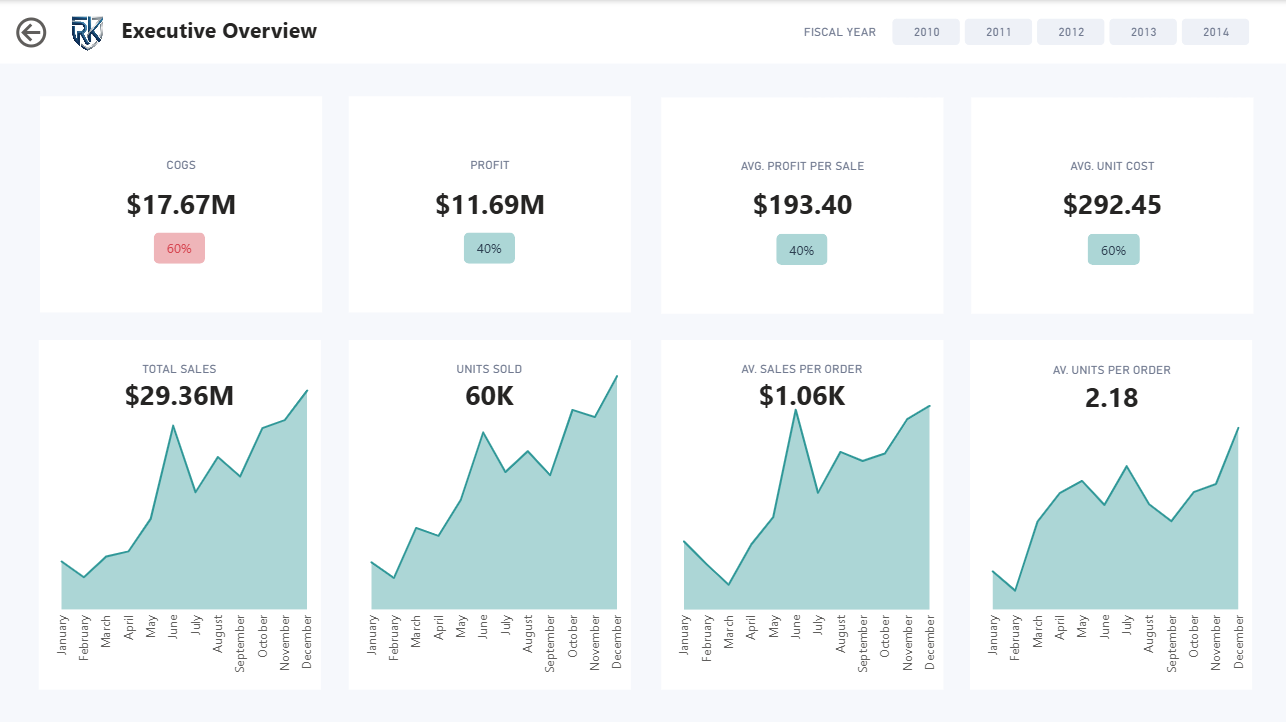

The dashboard page shown, as its layout file describes it:
{"tool":"powerbi","page":{"name":"Executive Overview","canvas":[1280,720],"ordinal":1},"visuals":[{"type":"shape","box":[0,0,1280,63.4],"z":0},{"type":"actionButton","box":[11.2,12.4,41.1,39.8],"z":1000},{"type":"textbox","box":[115.7,10,266.2,42.3],"z":2000},{"type":"areaChart","fields":{"Category":["dim_date.Month Name"],"Y":["_measure.Avg Units Per Order"]},"box":[965.3,338.4,281.1,348.3],"z":3000},{"type":"card","title":"AV. UNITS PER ORDER","fields":{"Values":["_measure.Avg Units Per Order"]},"box":[1027.5,360.7,158,56],"z":4000},{"type":"areaChart","fields":{"Category":["dim_date.Month Name"],"Y":["_measure.Total Sales"]},"box":[38.6,338.4,281.1,348.3],"z":5000},{"type":"areaChart","fields":{"Category":["dim_date.Month Name"],"Y":["_measure.Total Quantity Sold"]},"box":[347.1,338.4,281.1,348.3],"z":6000},{"type":"card","title":"UNITS SOLD","fields":{"Values":["_measure.Total Quantity Sold"]},"box":[408,359.5,158,56],"z":7000},{"type":"card","title":"TOTAL SALES","fields":{"Values":["_measure.Total Sales"]},"box":[99.5,359.5,158,56],"z":8000},{"type":"areaChart","fields":{"Category":["dim_date.Month Name"],"Y":["_measure.Avg. Sales per Order"]},"box":[658.1,338.4,281.1,348.3],"z":9000},{"type":"card","title":"AV. SALES PER ORDER","fields":{"Values":["_measure.Avg. Sales per Order"]},"box":[712.8,359.5,170.4,56],"z":10000},{"type":"textbox","box":[39.8,95.8,281.1,215.2],"z":11000},{"type":"card","fields":{"Values":["_measure.Total COGS"]},"box":[87.1,165.4,186.6,75.9],"z":12000},{"type":"actionButton","box":[153,231.4,51,31.1],"z":13000},{"type":"textbox","box":[347.1,95.8,281.1,215.2],"z":14000},{"type":"card","fields":{"Values":["_measure.Total Profit"]},"box":[394.3,165.4,186.6,75.9],"z":15000},{"type":"actionButton","box":[461.5,231.4,51,31.1],"z":16000},{"type":"textbox","box":[658.1,97,281.1,215.2],"z":17000},{"type":"card","fields":{"Values":["_measure.Avg Profit per Sale"]},"box":[705.3,165.4,186.6,75.9],"z":18000},{"type":"textbox","box":[966.6,97,281.1,215.2],"z":19000},{"type":"card","fields":{"Values":["_measure.Avg Unit Cost"]},"box":[1013.8,165.4,186.6,75.9],"z":20000},{"type":"actionButton","box":[1082.2,232.6,52.2,31.1],"z":21000},{"type":"actionButton","box":[772.5,232.6,51,31.1],"z":22000},{"type":"advancedSlicerVisual","fields":{"Values":["dim_date.Year"]},"box":[883.2,13.7,369.5,36.1],"z":23000,"group":"g1"},{"type":"group","id":"g1","title":"Group 1","box":[794.9,13.7,457.8,36.1],"z":23000},{"type":"textbox","box":[794.9,16.2,88.3,33.6],"z":24000,"group":"g1"},{"type":"image","box":[69.7,12.4,34.8,41.1],"z":24000}]}

Visuals, with their boxes in screenshot pixels (x1, y1, x2, y2), scaled from the page's 1280x720 canvas onto the 1286x722 screenshot:
shape: <bbox>0, 0, 1285, 64</bbox>
actionButton: <bbox>11, 12, 53, 52</bbox>
textbox: <bbox>116, 10, 384, 52</bbox>
areaChart - dim_date.Month Name x _measure.Avg Units Per Order: <bbox>970, 339, 1252, 689</bbox>
"AV. UNITS PER ORDER" card: <bbox>1032, 362, 1191, 418</bbox>
areaChart - dim_date.Month Name x _measure.Total Sales: <bbox>39, 339, 321, 689</bbox>
areaChart - dim_date.Month Name x _measure.Total Quantity Sold: <bbox>349, 339, 631, 689</bbox>
"UNITS SOLD" card: <bbox>410, 360, 569, 417</bbox>
"TOTAL SALES" card: <bbox>100, 360, 259, 417</bbox>
areaChart - dim_date.Month Name x _measure.Avg. Sales per Order: <bbox>661, 339, 944, 689</bbox>
"AV. SALES PER ORDER" card: <bbox>716, 360, 887, 417</bbox>
textbox: <bbox>40, 96, 322, 312</bbox>
card - _measure.Total COGS: <bbox>88, 166, 275, 242</bbox>
actionButton: <bbox>154, 232, 205, 263</bbox>
textbox: <bbox>349, 96, 631, 312</bbox>
card - _measure.Total Profit: <bbox>396, 166, 584, 242</bbox>
actionButton: <bbox>464, 232, 515, 263</bbox>
textbox: <bbox>661, 97, 944, 313</bbox>
card - _measure.Avg Profit per Sale: <bbox>709, 166, 896, 242</bbox>
textbox: <bbox>971, 97, 1254, 313</bbox>
card - _measure.Avg Unit Cost: <bbox>1019, 166, 1206, 242</bbox>
actionButton: <bbox>1087, 233, 1140, 264</bbox>
actionButton: <bbox>776, 233, 827, 264</bbox>
advancedSlicerVisual - dim_date.Year: <bbox>887, 14, 1259, 50</bbox>
"Group 1" group: <bbox>799, 14, 1259, 50</bbox>
textbox: <bbox>799, 16, 887, 50</bbox>
image: <bbox>70, 12, 105, 54</bbox>
